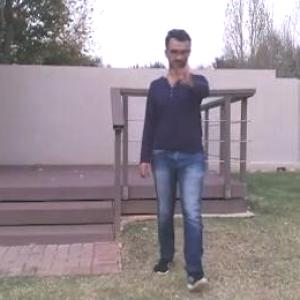takeoff-hand: (170, 57, 195, 91)
